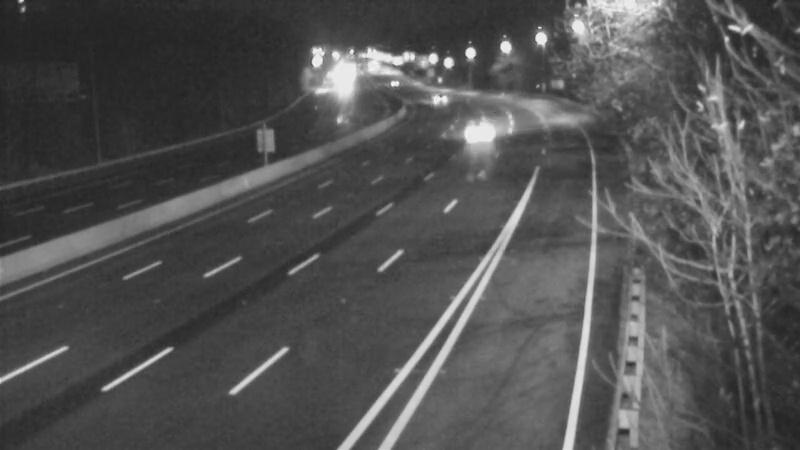vehicle: (367, 59, 417, 109), (406, 71, 456, 121), (456, 104, 506, 154)
